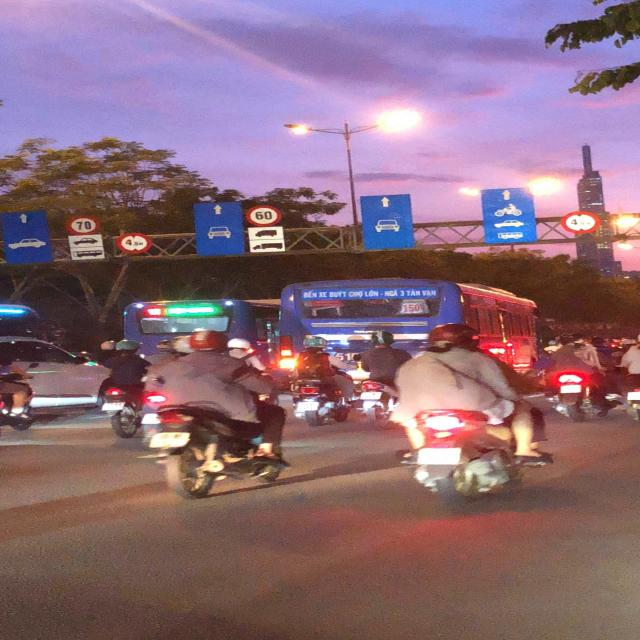Bien bao han che chieu cao: (558, 210, 604, 240), (117, 232, 154, 254)
Bien bao toc do toi da cho phep: (242, 201, 288, 227), (64, 212, 99, 237)
